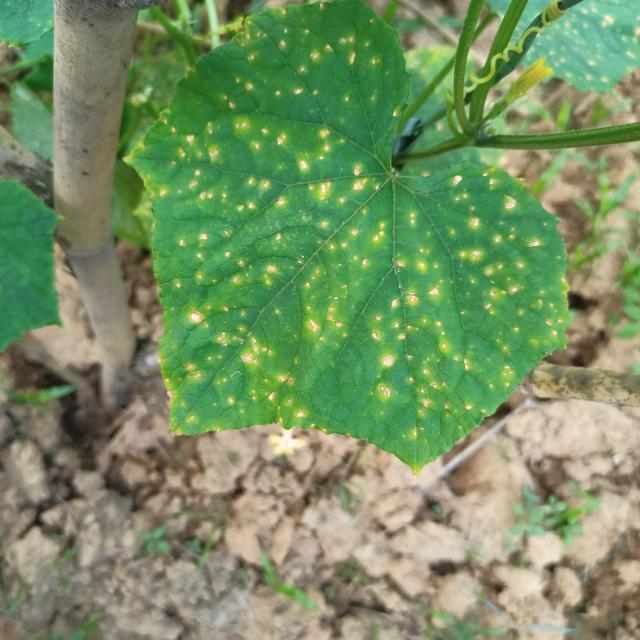disease_cucumber: (154, 17, 566, 432)
